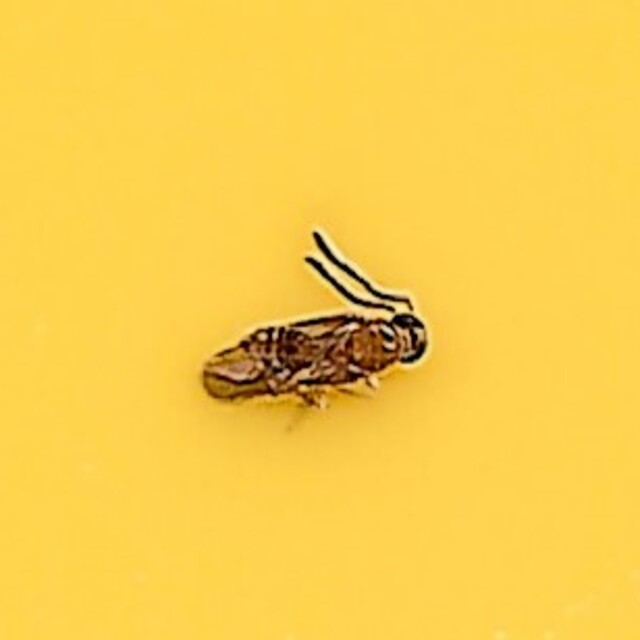Hymenoptera: (208, 230, 432, 410)
